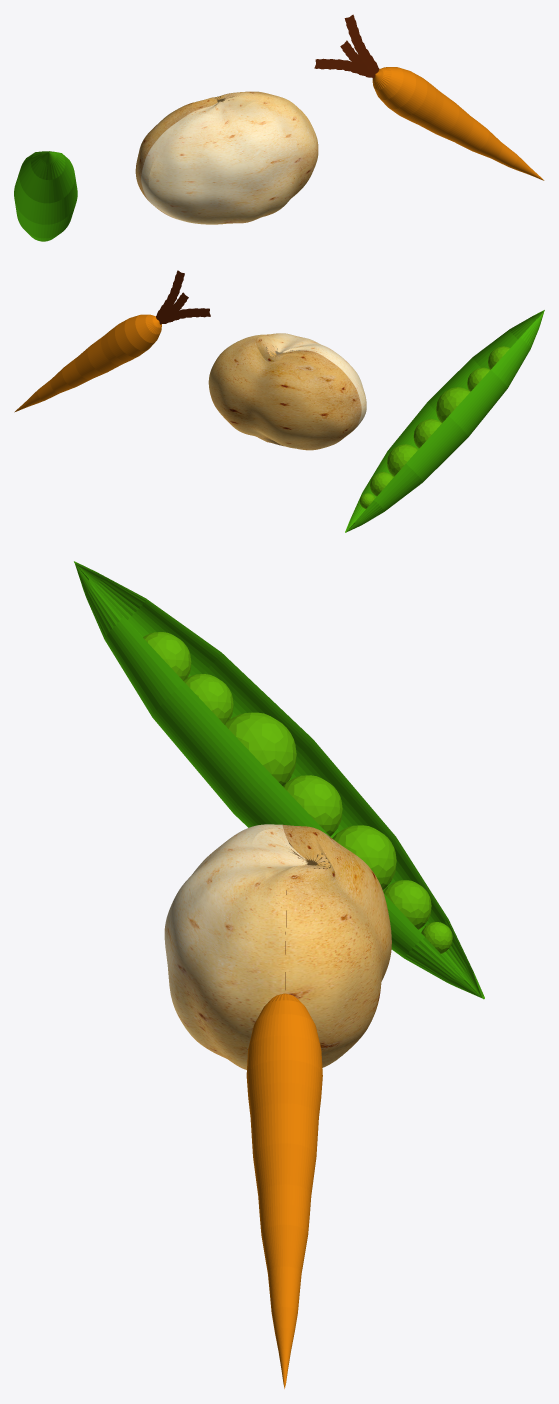
The model's file is fiber.gltf.
3 views of the same model, one above another, from view 1: azimuth 30°, elevation 25°; view 2: azimuth 150°, elevation 25°; view 3: azimuth 270°, elevation 25° (orthographic). The views are drawn at different scales.
Visible parts, largest first — view 1: Icosphere.001; view 2: Icosphere.001; view 3: Icosphere.001.
Boxes of the visible parts, x1,y1,x2,y2 form: Icosphere.001: (14,14,544,241); Icosphere.001: (14,270,544,532); Icosphere.001: (74,561,484,1388).
Size of the model in its own units: 4.77 by 1.74 by 1.78.
Materials: 5 (1 with a texture image).
